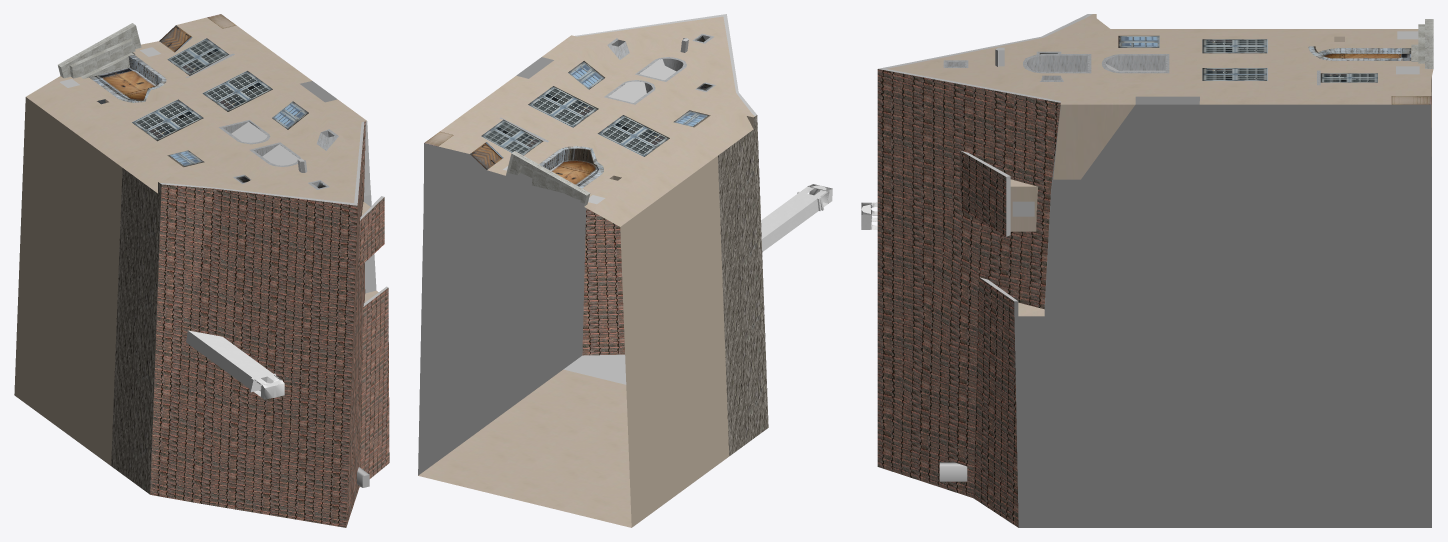
The model's file is Tolli_3-origo.obj.
The picture shows the model from 3 angles, left to right: view 1: azimuth 30°, elevation 25°; view 2: azimuth 150°, elevation 25°; view 3: azimuth 270°, elevation 25°; orthographic projection. The views are drawn at different scales.
Parts seen in each view (by area): view 1: Tolli_3; view 2: Tolli_3; view 3: Tolli_3.
Boxes of the visible parts, box(x1,y1,x2,y2) form: Tolli_3: box(14, 14, 389, 527); Tolli_3: box(418, 14, 832, 527); Tolli_3: box(861, 14, 1433, 527).
Size of the model in its own units: 9.38 by 15.5 by 17.29.
